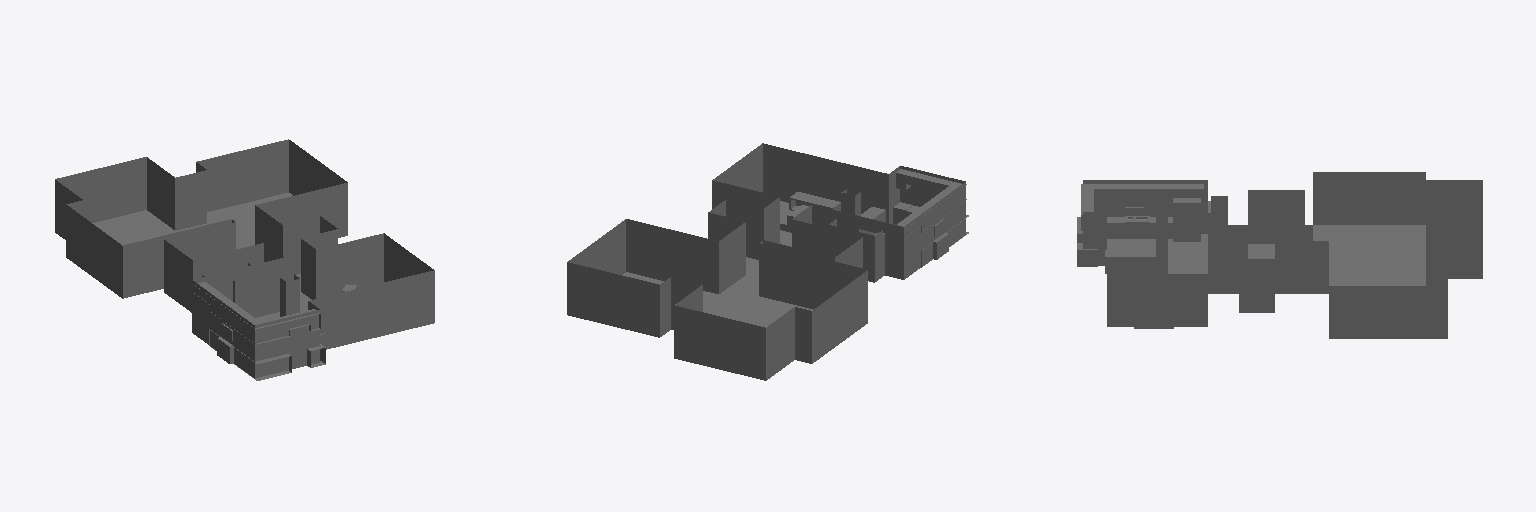
The model's file is GameJamRooms.obj.
3 renders of one model, left to right at view 1: azimuth 30°, elevation 25°; view 2: azimuth 150°, elevation 25°; view 3: azimuth 270°, elevation 25°, orthographic.
Size of the model in its own units: 1565 by 344 by 2354.